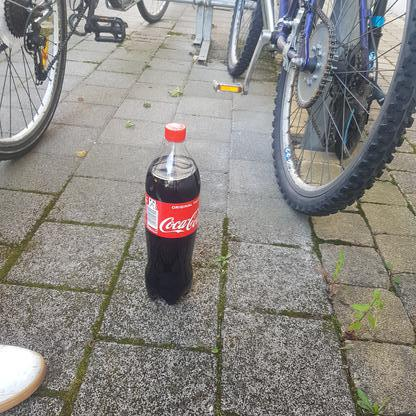coca-cola: (141, 120, 202, 305)
